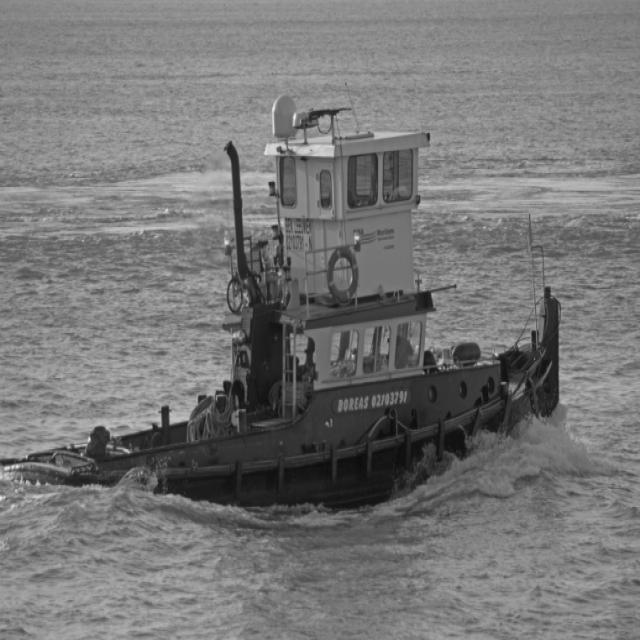tugboat: (1, 93, 566, 539)
